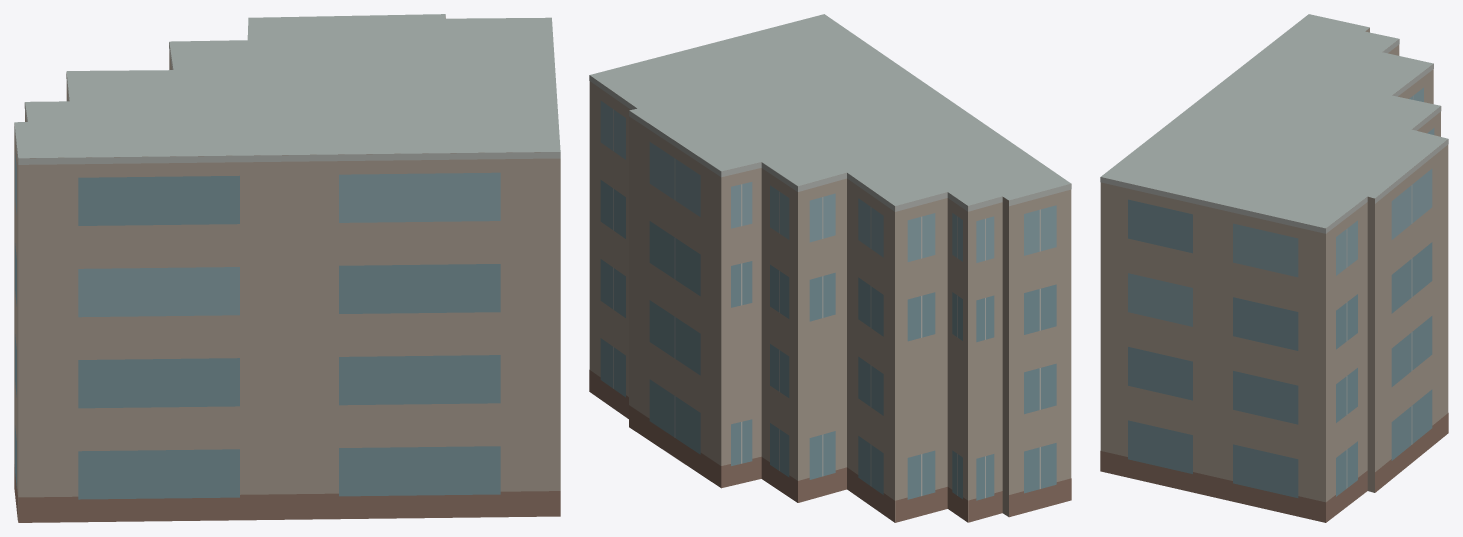
The model's file is survey-upis-32588099.glb.
The picture shows the model from 3 angles, left to right: view 1: azimuth 30°, elevation 25°; view 2: azimuth 150°, elevation 25°; view 3: azimuth 270°, elevation 25°; orthographic projection. The views are drawn at different scales.
Visible parts, largest first — view 1: survey-upis-32588099.tmp; view 2: survey-upis-32588099.tmp; view 3: survey-upis-32588099.tmp.
Part boxes in pixels (x1,y1,x2,y2): survey-upis-32588099.tmp: [14, 14, 560, 522]; survey-upis-32588099.tmp: [589, 14, 1071, 522]; survey-upis-32588099.tmp: [1100, 14, 1448, 522].
Bounding box in the file's own units: 20.78 × 13.3 × 14.25.
